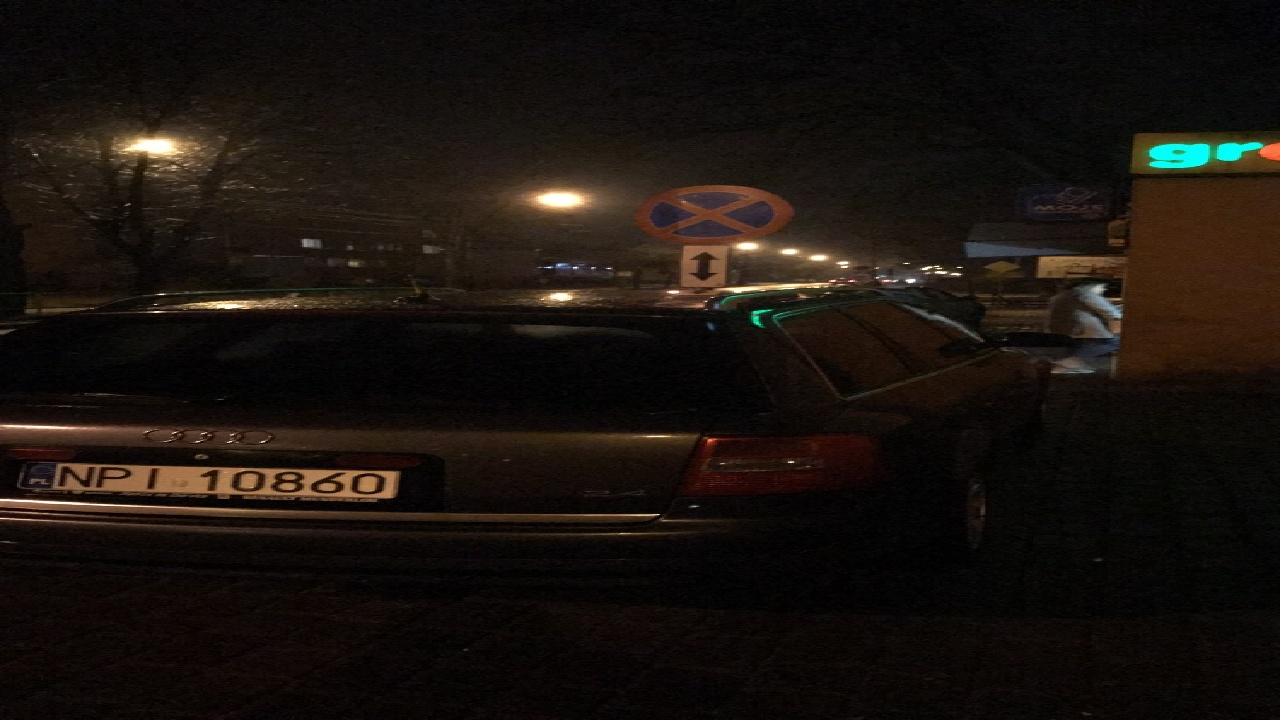B36: (633, 185, 796, 245)
